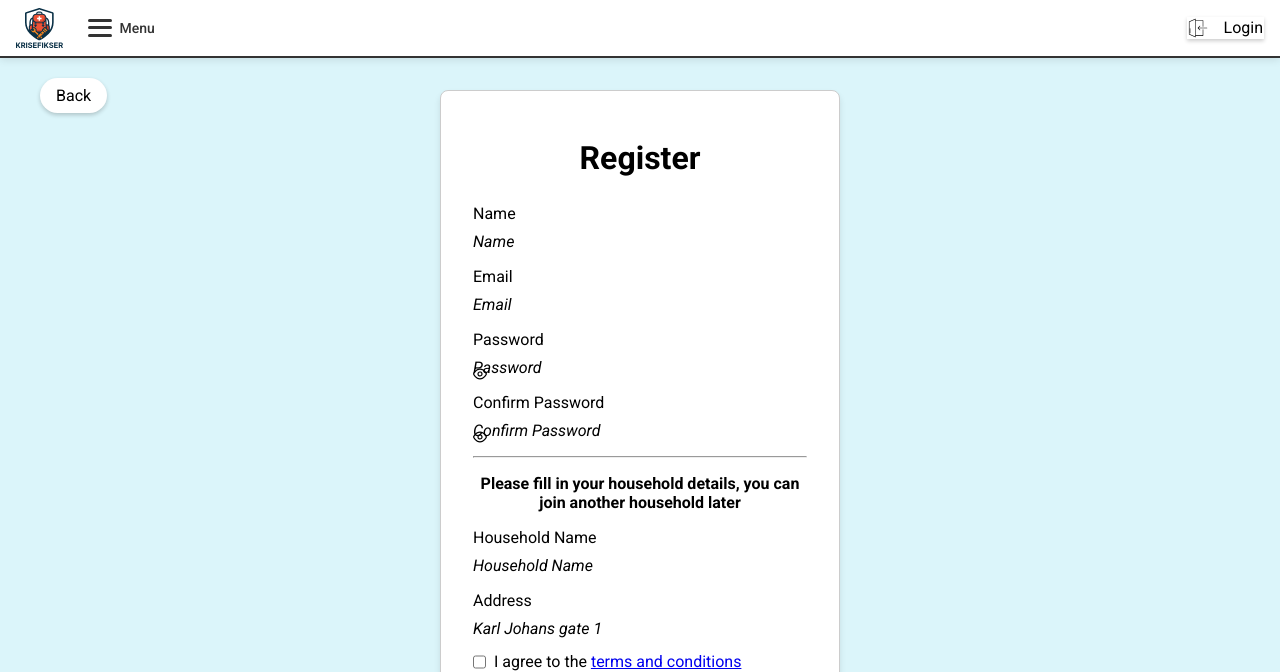
it: Registration Form › shows validation error when passwords do not match
In the password field with placeholder "Password": (640, 367) [473, 357, 807, 377], type "Password123!"
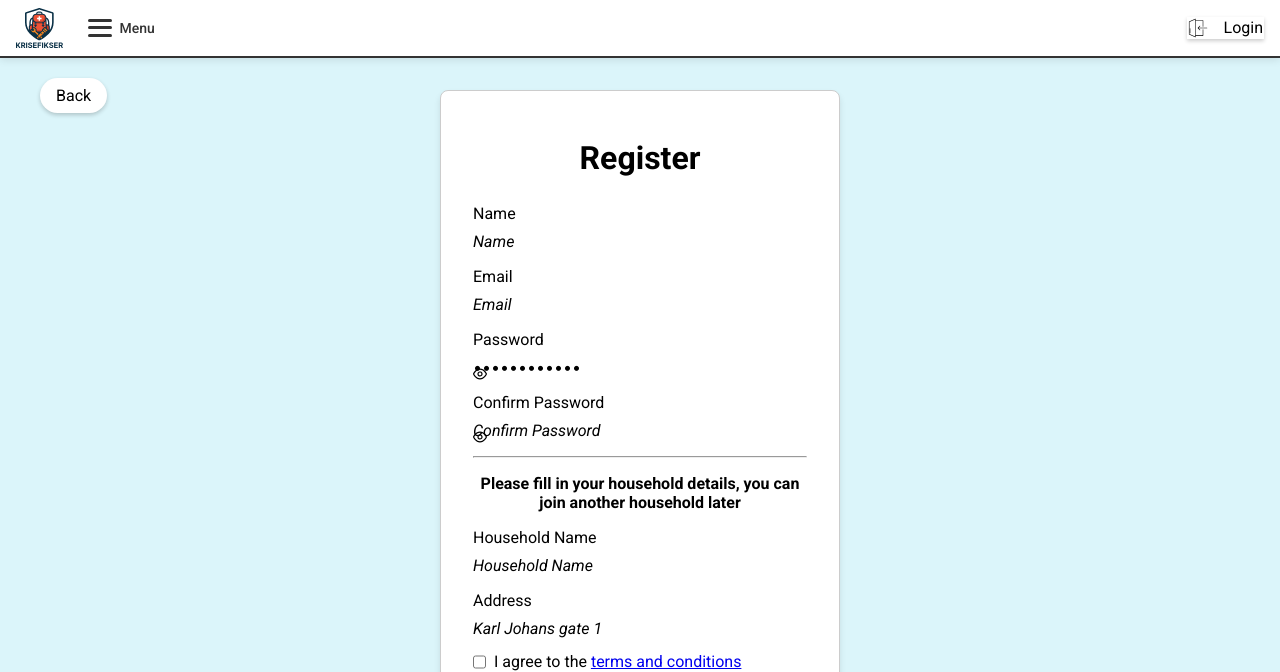
In the password field with id "confirmPassword": (640, 430) [473, 420, 807, 440], type "DifferentPassword"
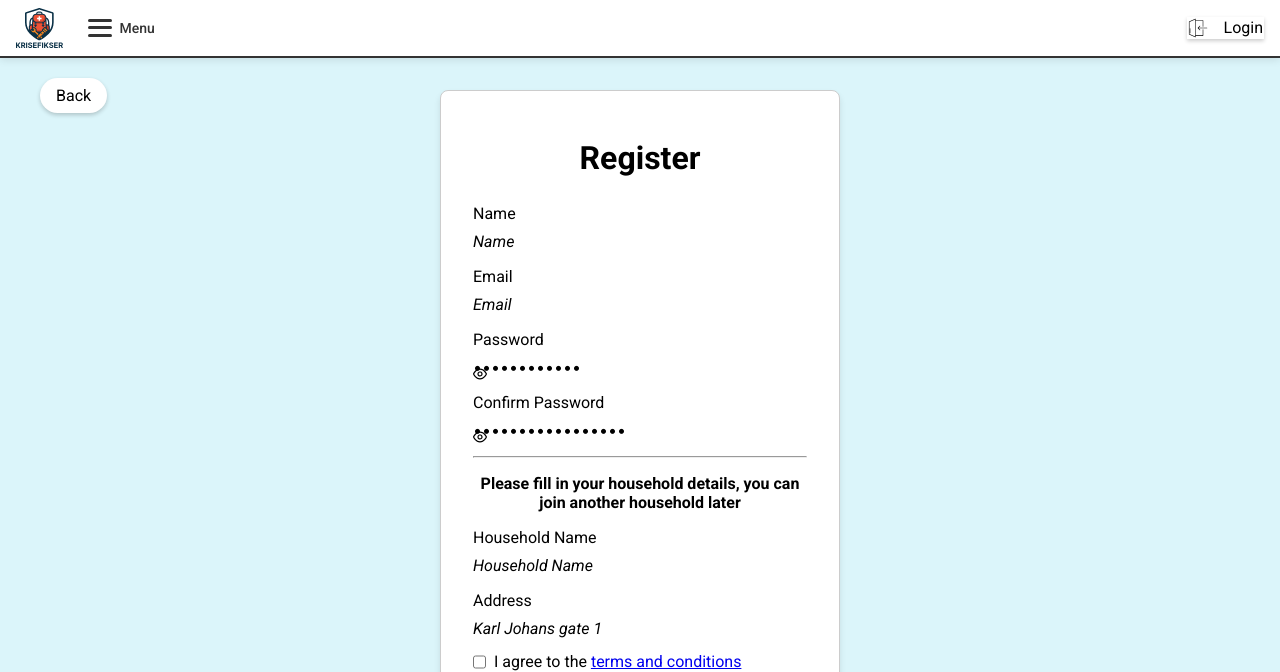
Leave the password field with id "confirmPassword", box [473, 420, 807, 440]
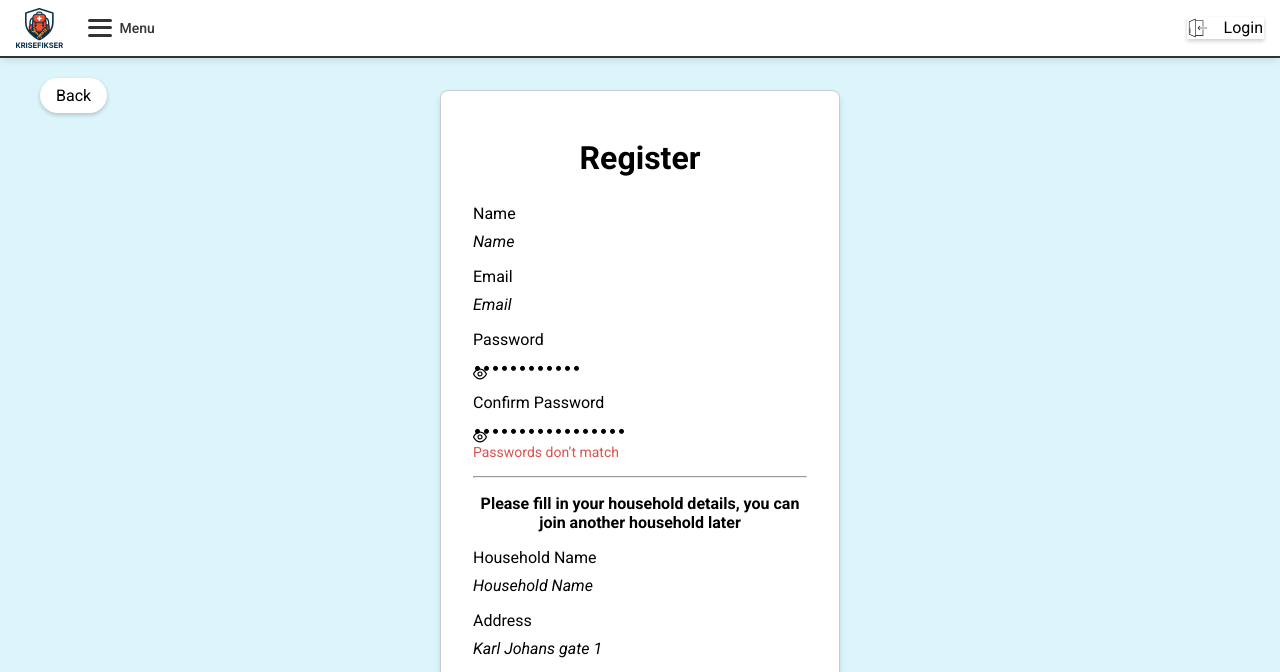
Expected: the text "Passwords don’t match" is shown, [473, 444, 619, 460]
